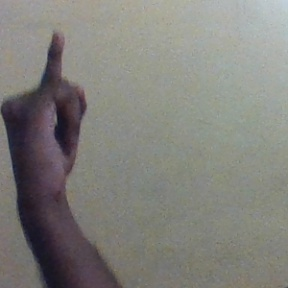I: (5, 29, 87, 192)
